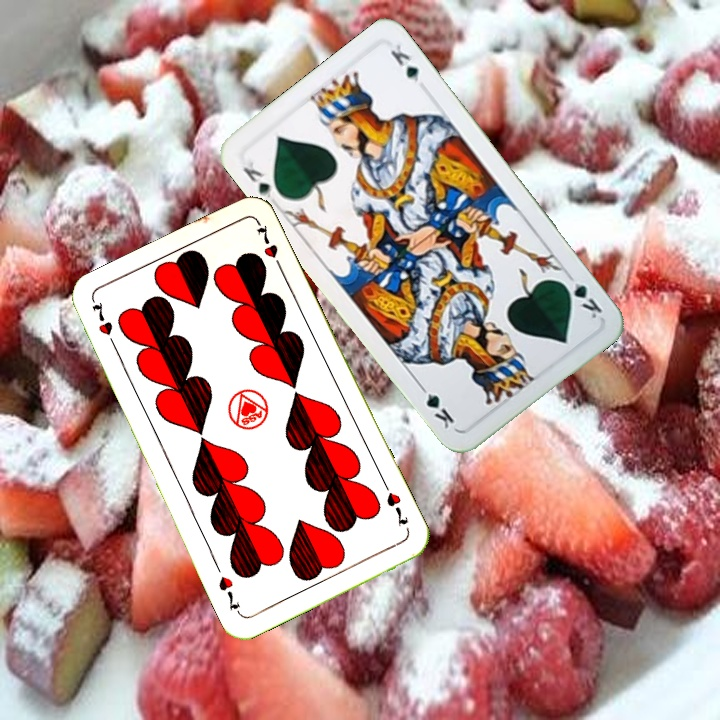GK: (557, 270, 605, 321), (238, 154, 274, 201)
H7: (88, 299, 120, 353), (379, 478, 411, 530)
